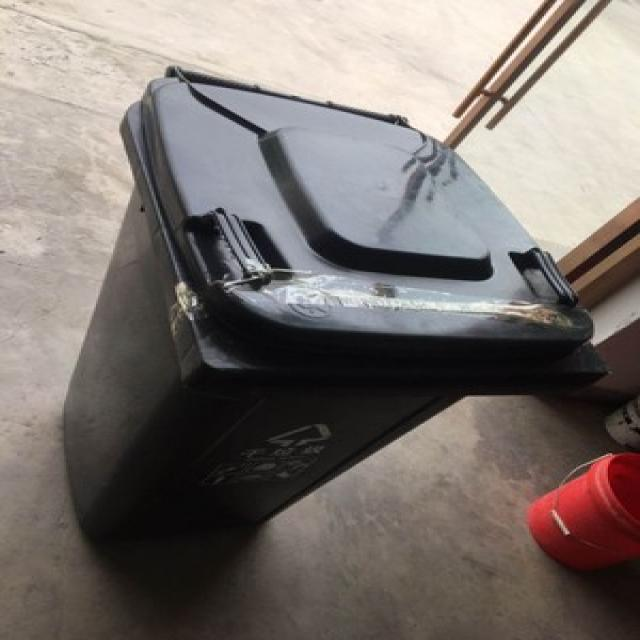ash bin: (64, 64, 599, 547)
